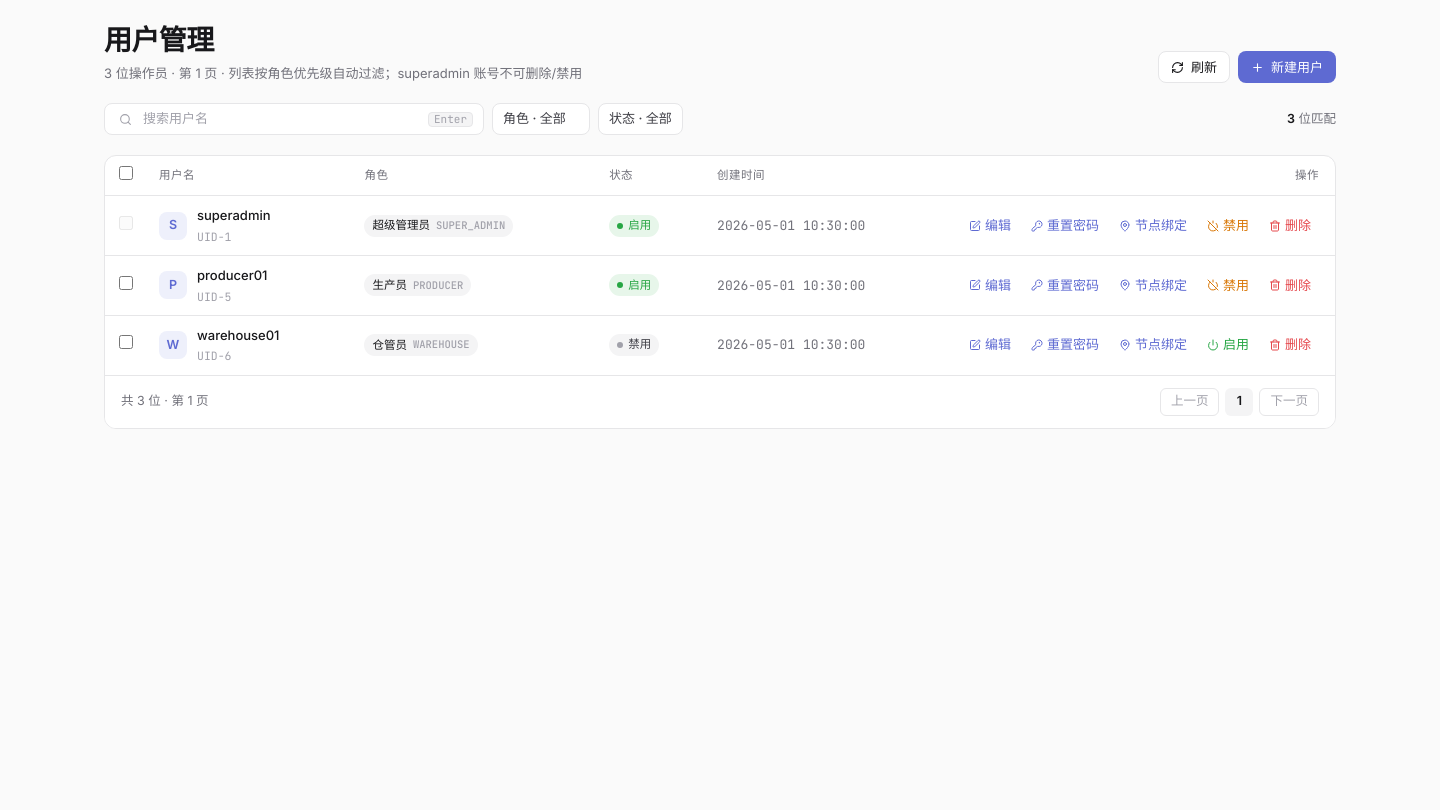
UserList smoke › shows readonly status pill in edit dialog reflecting current enabled state
This screenshot has width=1440, height=810.
What coordinates should you click on to do the following:
click the button with test id "user-table-row-edit" in the row of "warehouse01"
I would click on:
 (990, 345)
Its box is [961,332,1019,359].
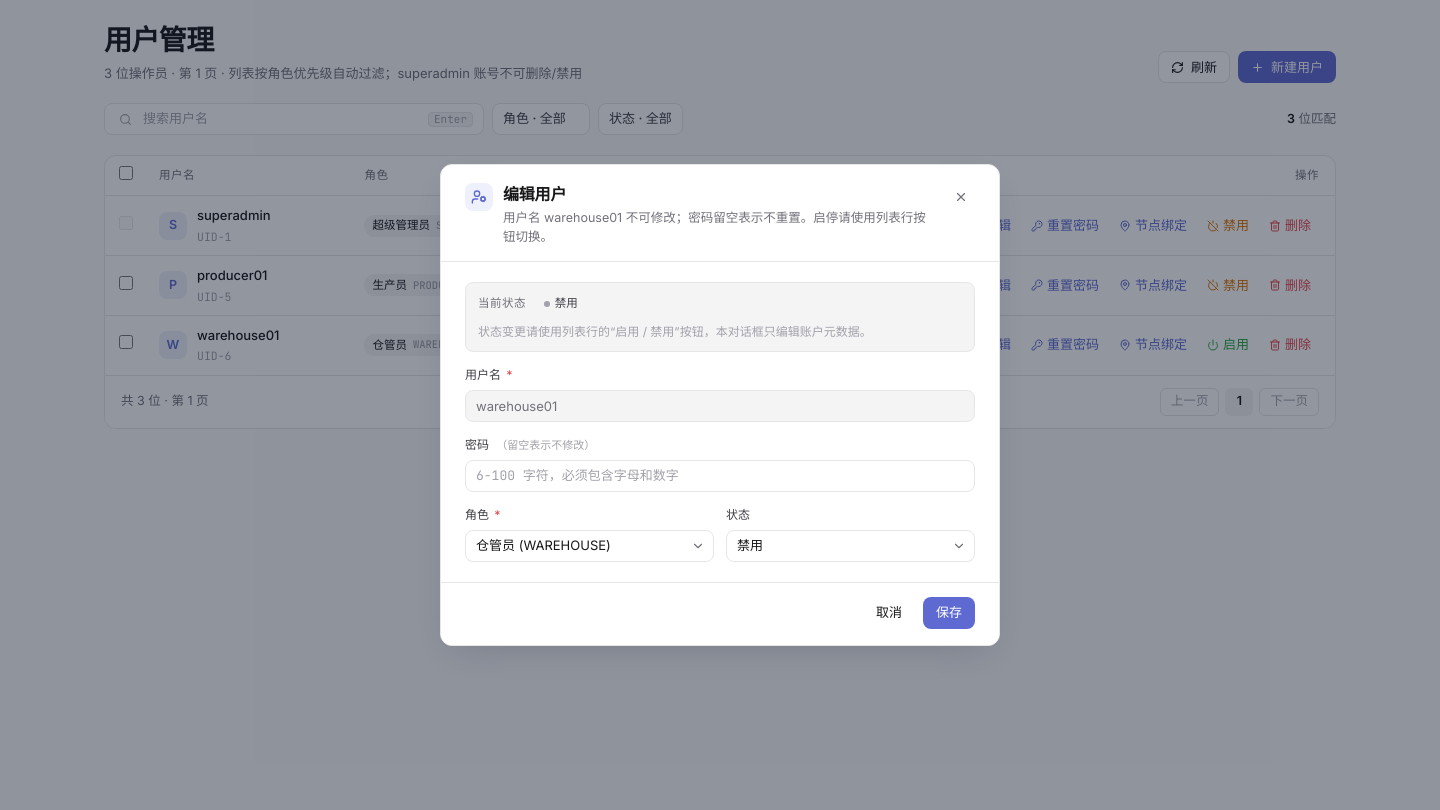
Expected: the element with test id "user-form-status" is shown, [465,282,975,352]
Expected: the element with test id "user-form-status" shows "禁用", [555,296,578,310]
